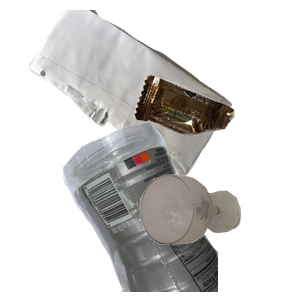glass: (138, 172, 300, 300)
paper: (27, 10, 252, 187)
plastic: (60, 120, 300, 300)
trash: (131, 73, 300, 202)
